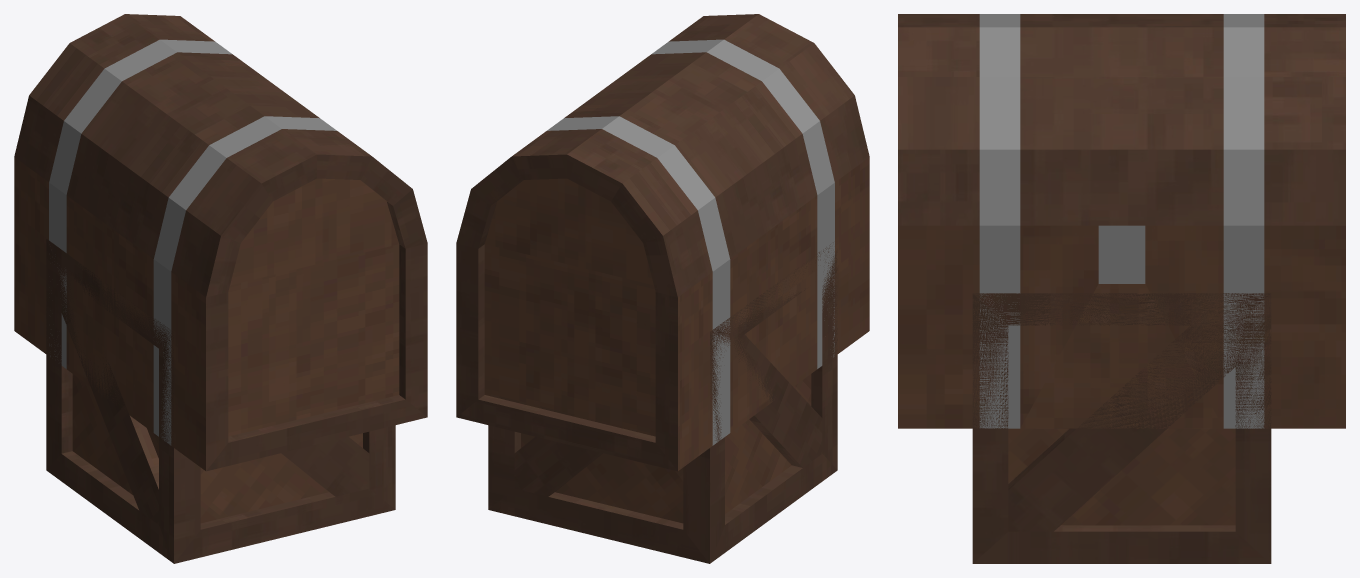
The model's file is Mdl_Box,Chest,Palette.fbx.
The picture shows the model from 3 angles, left to right: view 1: azimuth 30°, elevation 25°; view 2: azimuth 150°, elevation 25°; view 3: azimuth 270°, elevation 25°; orthographic projection. The views are drawn at different scales.
Visible parts, largest first — view 1: Cube.001, Cube; view 2: Cube.001, Cube; view 3: Cube.001, Cube.
Boxes of the visible parts, bbox=[...] form: Cube.001: bbox=[14, 14, 427, 471]; Cube: bbox=[46, 239, 395, 563]; Cube.001: bbox=[456, 14, 869, 471]; Cube: bbox=[488, 242, 837, 563]; Cube.001: bbox=[898, 14, 1345, 428]; Cube: bbox=[972, 293, 1271, 563].
Bounding box in the file's own units: 200 × 350 × 300.
Materials: 3 (2 with a texture image).
